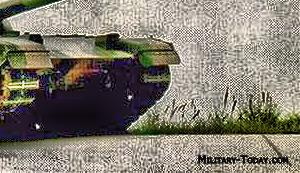tanks: (1, 1, 180, 134)
